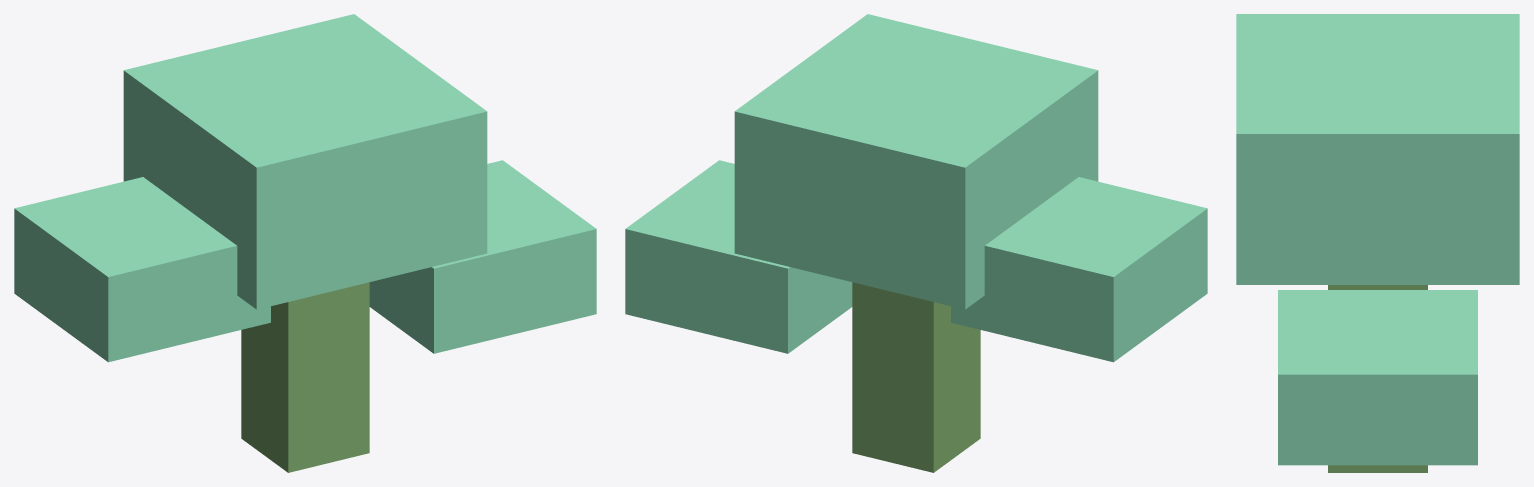
File: Prop_DS_Herb_CacheLeaf_S1.glb
3 views of the same model, side by side, from view 1: azimuth 30°, elevation 25°; view 2: azimuth 150°, elevation 25°; view 3: azimuth 270°, elevation 25° (orthographic). The views are drawn at different scales.
Visible parts, largest first — view 1: Cube.003, Cube.002, Cube.001, Cube; view 2: Cube.003, Cube.002, Cube.001, Cube; view 3: Cube.003, Cube.001, Cube.
Boxes of the visible parts, x1,y1,x2,y2 form: Cube.003: [123, 14, 487, 309]; Cube.002: [14, 177, 270, 362]; Cube.001: [369, 160, 596, 353]; Cube: [241, 282, 369, 472]; Cube.003: [734, 14, 1098, 309]; Cube.002: [951, 177, 1207, 362]; Cube.001: [625, 160, 852, 353]; Cube: [852, 282, 980, 472]; Cube.003: [1236, 14, 1519, 284]; Cube.001: [1278, 290, 1477, 465]; Cube: [1328, 285, 1427, 472].
Bounding box in the file's own units: 0.36 × 0.25 × 0.17.
